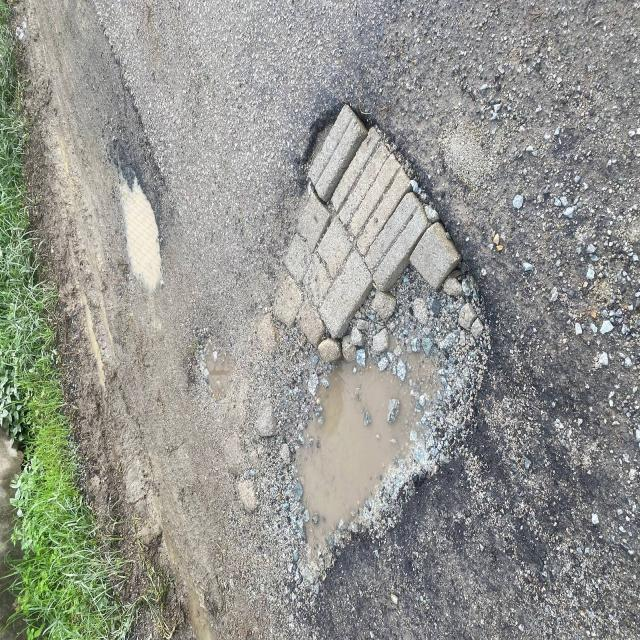pothole: (227, 10, 566, 615), (59, 147, 181, 316)
